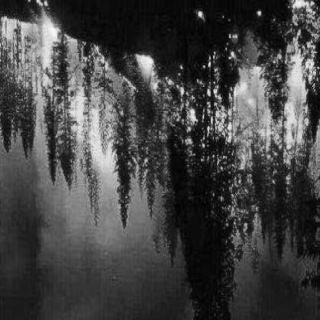Fire: (130, 56, 162, 98)
Smoke: (14, 199, 174, 311), (243, 248, 313, 314)
